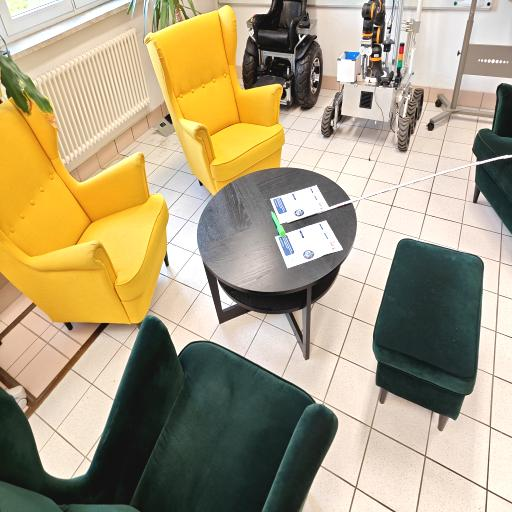Probe-Detection: (271, 212, 286, 238)
